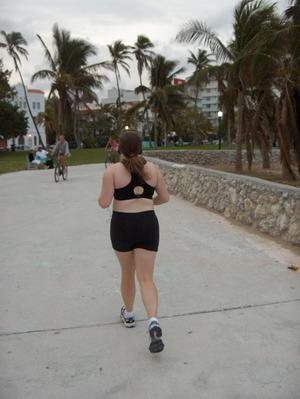person: (97, 126, 168, 354)
